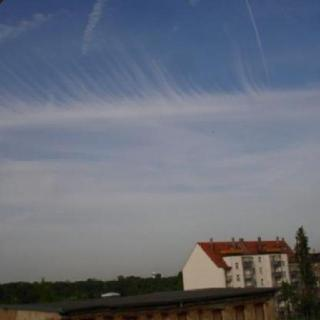Cirrus: (1, 0, 320, 221)
